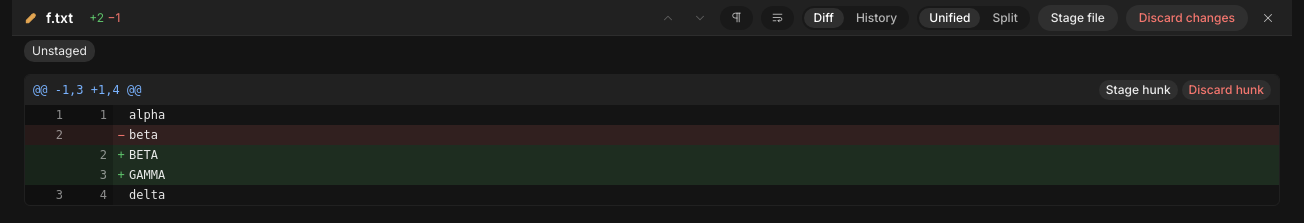
DiffView History (GC-166) › lists the commits that touched the file, in the order git answered with
Click the button "History" at x=877, y=18, box [846,8,907,28]
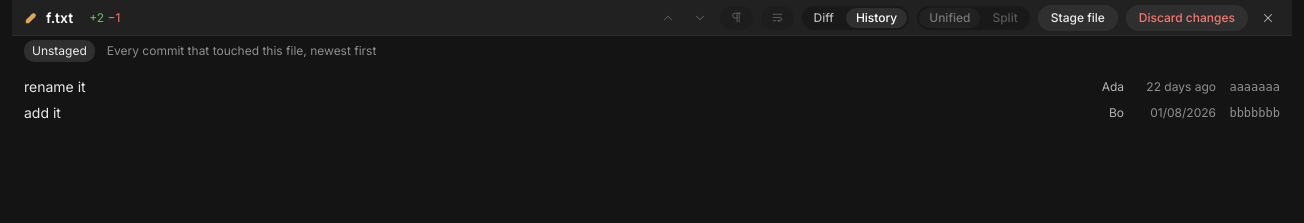
Expected: the text with class "history-sha" reads "aaaaaaa", [1229,80,1280,94]
Expected: the text with class "history-author" reads "Ada", [1102,79,1124,94]
Expected: the table with class "hunk-lines" is gone
